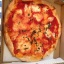pizza: (3, 1, 62, 60)
